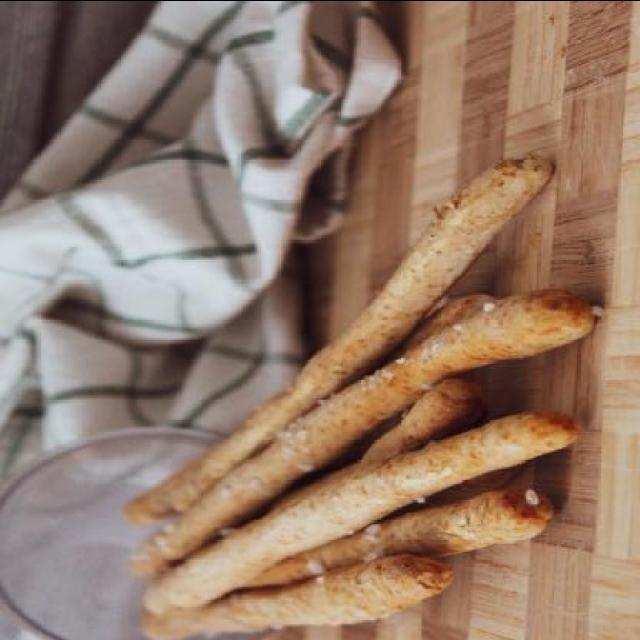Grissini: (120, 150, 616, 638)
